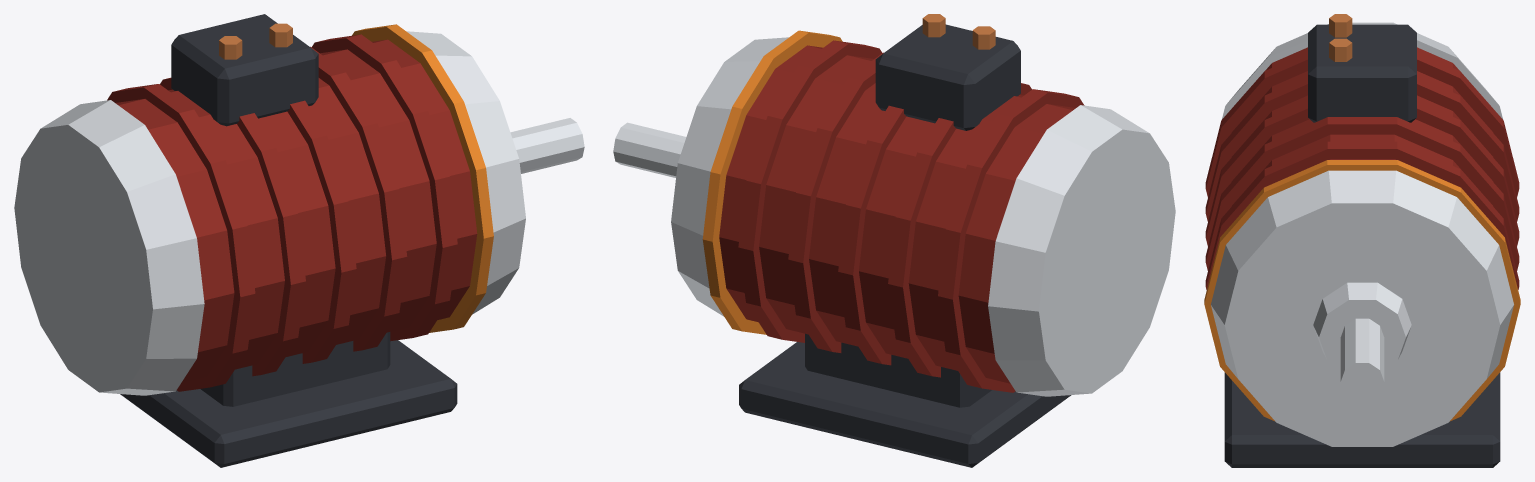
File: motor_quality.glb
3 views of the same model, side by side, from view 1: azimuth 30°, elevation 25°; view 2: azimuth 150°, elevation 25°; view 3: azimuth 270°, elevation 25° (orthographic).
Parts seen in each view (by area): view 1: motor_quality; view 2: motor_quality; view 3: motor_quality.
Part boxes in pixels (bbox=[...]): motor_quality: bbox=[14, 14, 584, 467]; motor_quality: bbox=[613, 14, 1175, 467]; motor_quality: bbox=[1204, 14, 1520, 467].
Size of the model in its own units: 0.3875 by 0.281 by 0.218.
